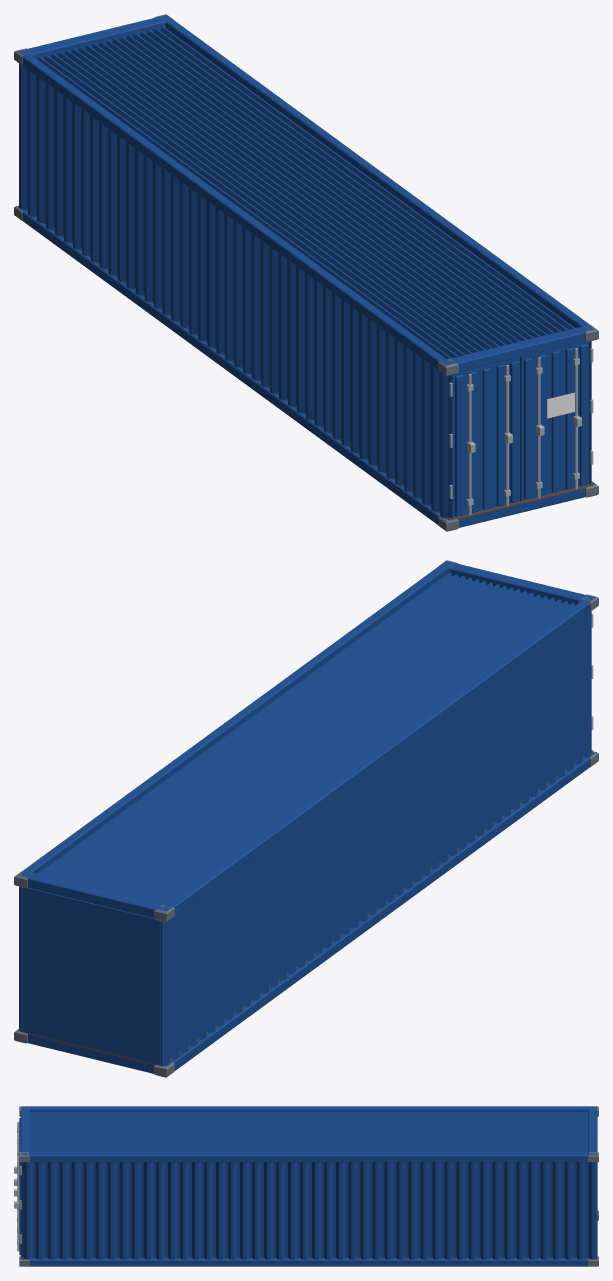
The model's file is HARBOR_10.obj.
The picture shows the model from 3 angles, top to bottom: view 1: azimuth 30°, elevation 25°; view 2: azimuth 150°, elevation 25°; view 3: azimuth 270°, elevation 25°; orthographic projection. The views are drawn at different scales.
Parts seen in each view (by area): view 1: HARBOR_10__side_wall, HARBOR_10__roof, HARBOR_10__top_rail, HARBOR_10__door_ribs, HARBOR_10__door_leaf, HARBOR_10__bottom_rail, HARBOR_10__end_header, HARBOR_10__locking_bars, HARBOR_10__end_sill, HARBOR_10__corner_castings, HARBOR_10__floor; view 2: HARBOR_10__side_wall, HARBOR_10__roof, HARBOR_10__back_panel_core, HARBOR_10__top_rail, HARBOR_10__bottom_rail, HARBOR_10__end_header, HARBOR_10__end_sill, HARBOR_10__corner_castings; view 3: HARBOR_10__side_wall, HARBOR_10__roof, HARBOR_10__top_rail, HARBOR_10__bottom_rail, HARBOR_10__end_header, HARBOR_10__corner_castings, HARBOR_10__floor, HARBOR_10__locking_bars.
Part boxes in pixels (x1,y1,x2,y2): HARBOR_10__side_wall: (19,63,591,518); HARBOR_10__roof: (37,26,574,359); HARBOR_10__top_rail: (17,15,593,369); HARBOR_10__door_ribs: (455,344,588,516); HARBOR_10__door_leaf: (452,341,589,517); HARBOR_10__bottom_rail: (17,206,595,524); HARBOR_10__end_header: (20,15,593,372); HARBOR_10__locking_bars: (468,348,577,515); HARBOR_10__end_sill: (23,210,585,527); HARBOR_10__corner_castings: (14,14,598,531); HARBOR_10__floor: (26,209,592,520); HARBOR_10__side_wall: (19,611,591,1065); HARBOR_10__roof: (38,572,575,905); HARBOR_10__back_panel_core: (23,887,160,1065); HARBOR_10__top_rail: (18,561,595,915); HARBOR_10__bottom_rail: (17,752,595,1070); HARBOR_10__end_header: (19,563,590,918); HARBOR_10__end_sill: (27,752,593,1073); HARBOR_10__corner_castings: (14,560,598,1077); HARBOR_10__side_wall: (20,1162,597,1259); HARBOR_10__roof: (30,1112,587,1153); HARBOR_10__top_rail: (21,1106,596,1162); HARBOR_10__bottom_rail: (21,1258,596,1266); HARBOR_10__end_header: (20,1107,597,1154); HARBOR_10__corner_castings: (19,1106,598,1266); HARBOR_10__floor: (20,1257,597,1258); HARBOR_10__locking_bars: (17,1121,19,1251).
Size of the model in its own units: 2.5 by 2.59 by 12.36.
